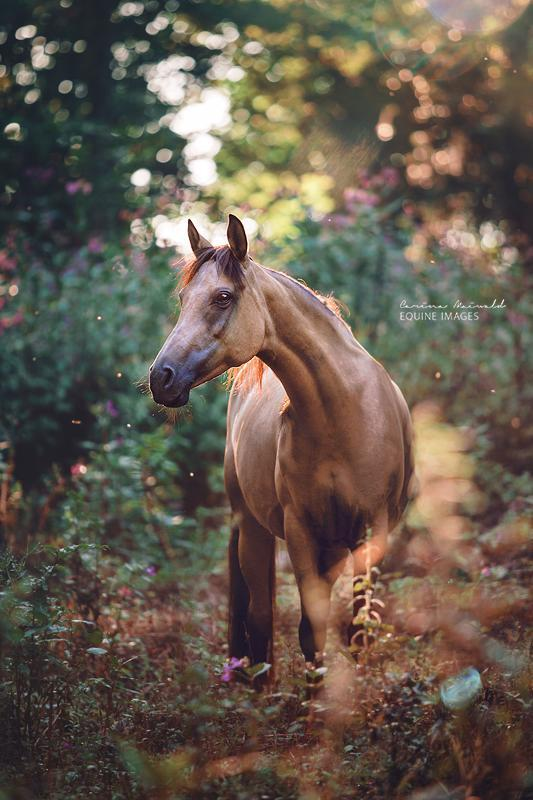horse: (146, 213, 420, 697)
